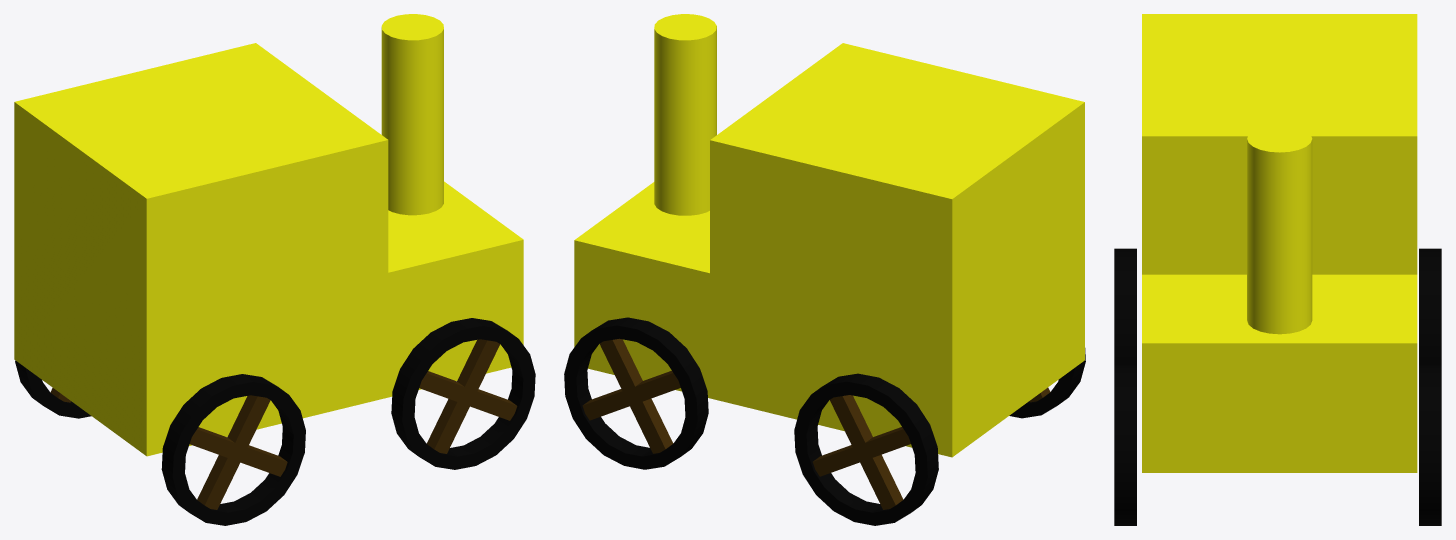
Rendered from train2.fbx.
3 renders of one model, left to right at view 1: azimuth 30°, elevation 25°; view 2: azimuth 150°, elevation 25°; view 3: azimuth 270°, elevation 25°, orthographic. The views are drawn at different scales.
Visible parts, largest first — view 1: pCube3, pCube4, wheel, wheel1, pCylinder1, wheel2; view 2: pCube3, pCube4, wheel2, wheel3, pCylinder1, wheel1; view 3: pCube3, pCube4, pCylinder1, wheel, wheel3, wheel1, wheel2.
Boxes of the visible parts, x1,y1,x2,y2 form: pCube3: (14, 43, 388, 456); pCube4: (388, 181, 523, 397); wheel: (391, 318, 535, 469); wheel1: (161, 374, 305, 525); pCylinder1: (381, 14, 443, 215); wheel2: (15, 360, 91, 418); pCube3: (710, 43, 1084, 457); pCube4: (574, 182, 710, 398); wheel2: (794, 373, 938, 525); wheel3: (564, 317, 708, 469); pCylinder1: (654, 14, 716, 215); wheel1: (1009, 348, 1085, 418); pCube3: (1142, 14, 1417, 274); pCube4: (1142, 274, 1417, 472); pCylinder1: (1247, 125, 1312, 334); wheel: (1114, 365, 1136, 525); wheel3: (1419, 365, 1441, 525); wheel1: (1114, 248, 1136, 364); wheel2: (1419, 248, 1441, 364).
Bounding box in the file's own units: 2.88 × 2.75 × 2.08.
